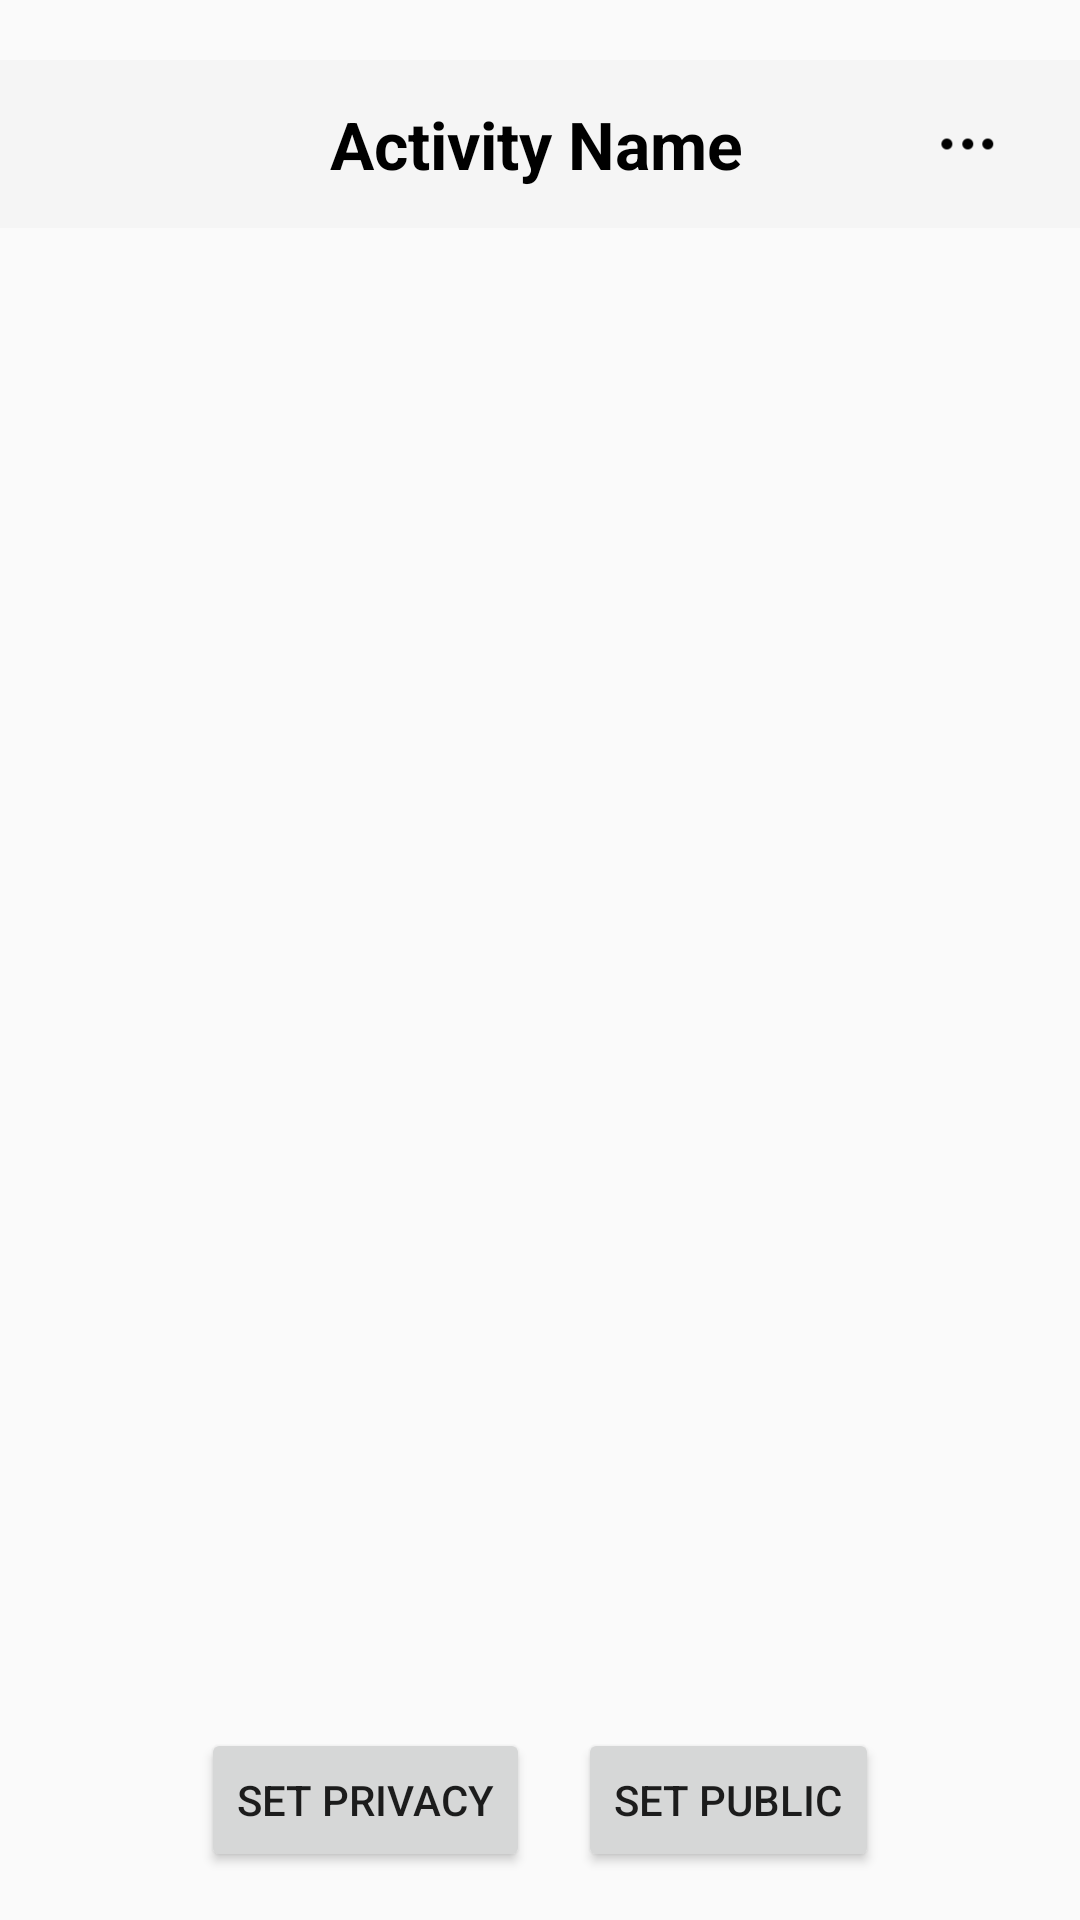

Screen size 1080px×1920px. Icon name, then its center in pixels as (x=x, y=y):
navbar more: (x=967, y=144)
